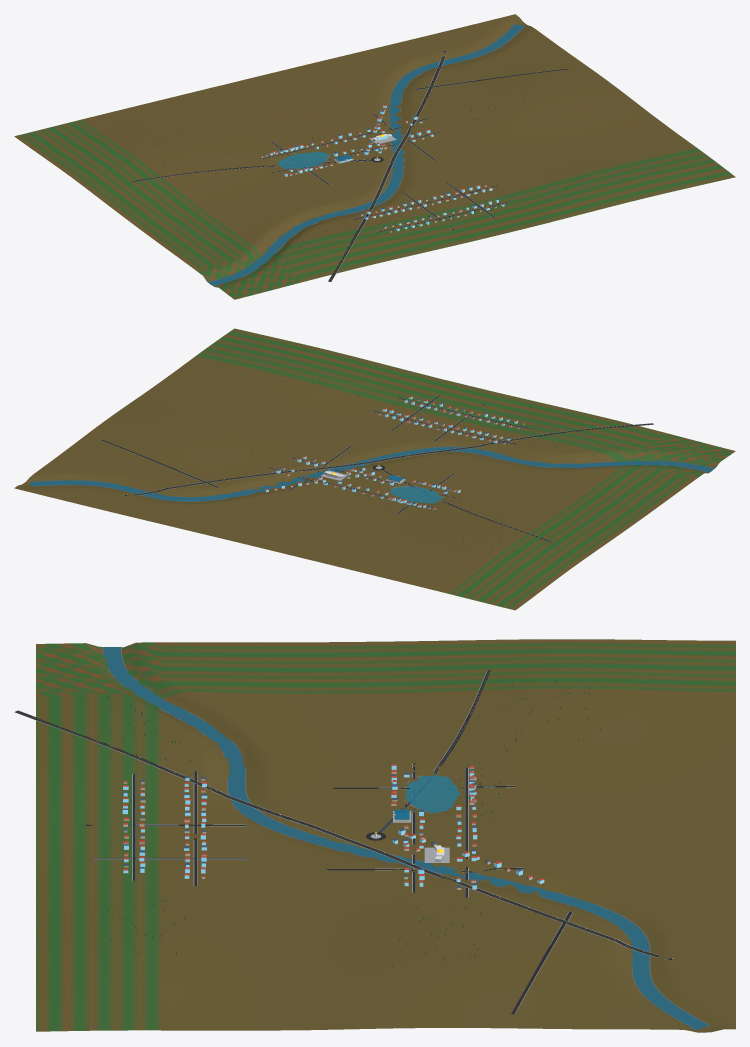
Rendered from ring3_w2_duc_trong_lien_nghia_urban_da_nhim.glb.
3 renders of one model, top to bottom at view 1: azimuth 30°, elevation 25°; view 2: azimuth 150°, elevation 25°; view 3: azimuth 270°, elevation 25°, orthographic. The views are drawn at different scales.
Parts seen in each view (by area): view 1: Terrain_DucTrong_LienNghia_Basin, Water_DaNhim_River_Corridor_Blend85, Roads_QL20_QL27_And_UrbanGrid_Asphalt, Roads_Urban_Sidewalks_And_Plazas, Embankment_DaNhim_And_NamSon_Promenade, Landmark_Urban_Glass_CurtainWall_Blend85, Water_NamSon_EcoLake_Blend85, Urban_Buildings_Roofs_Terracotta, Urban_Buildings_Walls_Sand, Urban_Buildings_Walls_Cream; view 2: Terrain_DucTrong_LienNghia_Basin, Water_DaNhim_River_Corridor_Blend85, Roads_QL20_QL27_And_UrbanGrid_Asphalt, Roads_Urban_Sidewalks_And_Plazas, Embankment_DaNhim_And_NamSon_Promenade, Landmark_Urban_Glass_CurtainWall_Blend85, Water_NamSon_EcoLake_Blend85, Urban_Buildings_Roofs_Terracotta, Urban_Buildings_Walls_Sand, Urban_Buildings_Walls_Cream; view 3: Terrain_DucTrong_LienNghia_Basin, Water_DaNhim_River_Corridor_Blend85, Roads_QL20_QL27_And_UrbanGrid_Asphalt, Roads_Urban_Sidewalks_And_Plazas, Embankment_DaNhim_And_NamSon_Promenade, Landmark_Urban_Glass_CurtainWall_Blend85, Water_NamSon_EcoLake_Blend85, Urban_Buildings_Roofs_Terracotta, Urban_Buildings_Walls_Cream, Urban_Buildings_Walls_Sand.
Part boxes in pixels (bbox=[...]): Terrain_DucTrong_LienNghia_Basin: bbox=[14, 14, 735, 299]; Water_DaNhim_River_Corridor_Blend85: bbox=[208, 24, 524, 285]; Roads_QL20_QL27_And_UrbanGrid_Asphalt: bbox=[132, 51, 568, 281]; Roads_Urban_Sidewalks_And_Plazas: bbox=[133, 51, 567, 281]; Embankment_DaNhim_And_NamSon_Promenade: bbox=[208, 24, 525, 286]; Landmark_Urban_Glass_CurtainWall_Blend85: bbox=[269, 105, 504, 230]; Water_NamSon_EcoLake_Blend85: bbox=[278, 151, 328, 169]; Urban_Buildings_Roofs_Terracotta: bbox=[260, 104, 503, 231]; Urban_Buildings_Walls_Sand: bbox=[259, 105, 496, 232]; Urban_Buildings_Walls_Cream: bbox=[264, 109, 504, 231]; Terrain_DucTrong_LienNghia_Basin: bbox=[14, 328, 735, 610]; Water_DaNhim_River_Corridor_Blend85: bbox=[29, 447, 713, 501]; Roads_QL20_QL27_And_UrbanGrid_Asphalt: bbox=[101, 395, 653, 542]; Roads_Urban_Sidewalks_And_Plazas: bbox=[101, 395, 652, 541]; Embankment_DaNhim_And_NamSon_Promenade: bbox=[30, 446, 714, 502]; Landmark_Urban_Glass_CurtainWall_Blend85: bbox=[265, 397, 517, 507]; Water_NamSon_EcoLake_Blend85: bbox=[390, 486, 442, 503]; Urban_Buildings_Roofs_Terracotta: bbox=[266, 396, 524, 509]; Urban_Buildings_Walls_Sand: bbox=[266, 400, 524, 510]; Urban_Buildings_Walls_Cream: bbox=[274, 397, 517, 509]; Terrain_DucTrong_LienNghia_Basin: bbox=[36, 639, 735, 1032]; Water_DaNhim_River_Corridor_Blend85: bbox=[103, 647, 709, 1029]; Roads_QL20_QL27_And_UrbanGrid_Asphalt: bbox=[15, 670, 673, 1014]; Roads_Urban_Sidewalks_And_Plazas: bbox=[14, 670, 673, 1013]; Embankment_DaNhim_And_NamSon_Promenade: bbox=[102, 647, 710, 1030]; Landmark_Urban_Glass_CurtainWall_Blend85: bbox=[122, 766, 544, 889]; Water_NamSon_EcoLake_Blend85: bbox=[405, 775, 460, 812]; Urban_Buildings_Roofs_Terracotta: bbox=[122, 764, 543, 882]; Urban_Buildings_Walls_Cream: bbox=[123, 771, 532, 889]; Urban_Buildings_Walls_Sand: bbox=[123, 765, 543, 889].
Bounding box in the file's own units: 4200 × 72.15 × 3301.
Materials: 24 (1 with a texture image).
